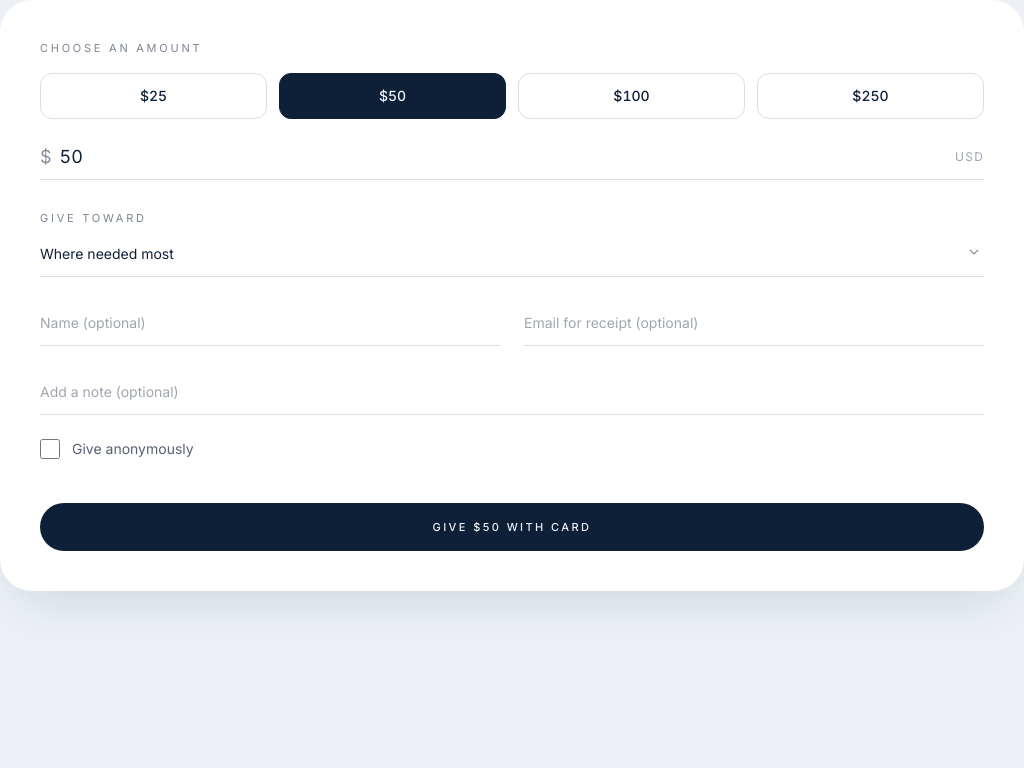
Test: DonateForm › strips everything but digits and the decimal point from the amount
This screenshot has width=1024, height=768.
Replace the text in the field named "Donation amount (USD)" with "$1a2,3.5x" at (503, 156), box [60, 142, 947, 170]
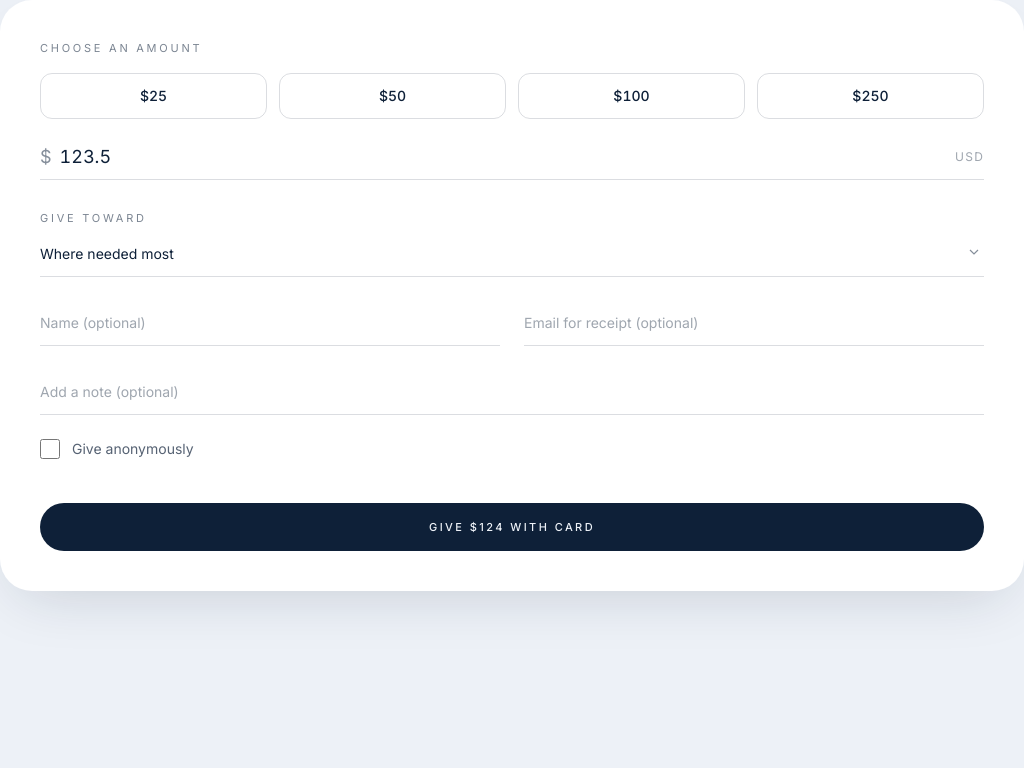
Expected: the field named "Donation amount (USD)" holds "123.5", [60, 142, 947, 170]
